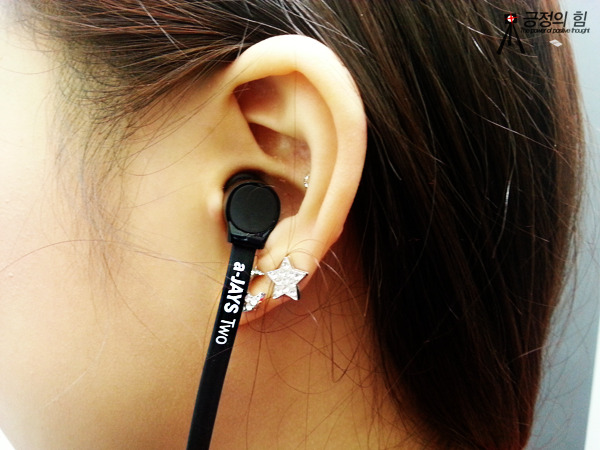earphone: (209, 35, 368, 320)
